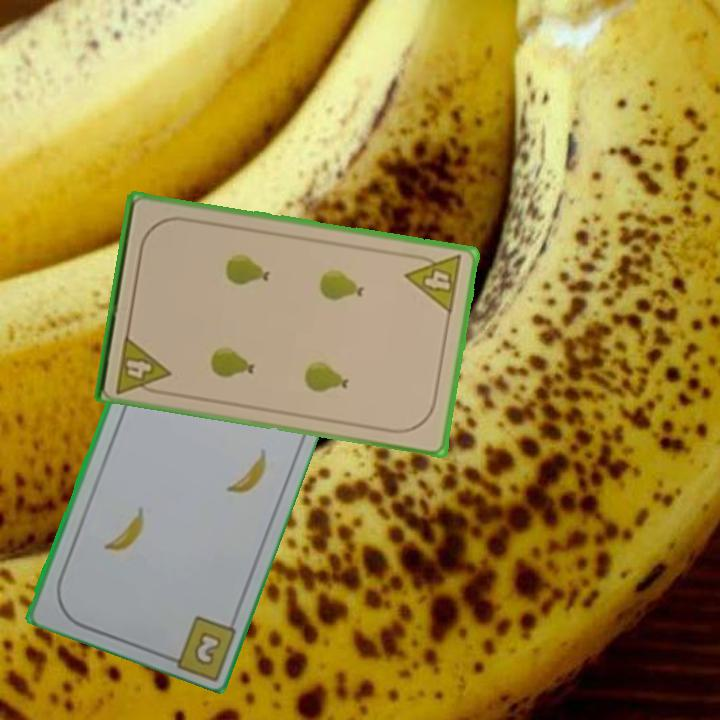2b: (192, 631, 222, 665)
4p: (402, 249, 466, 317), (112, 331, 173, 398)
